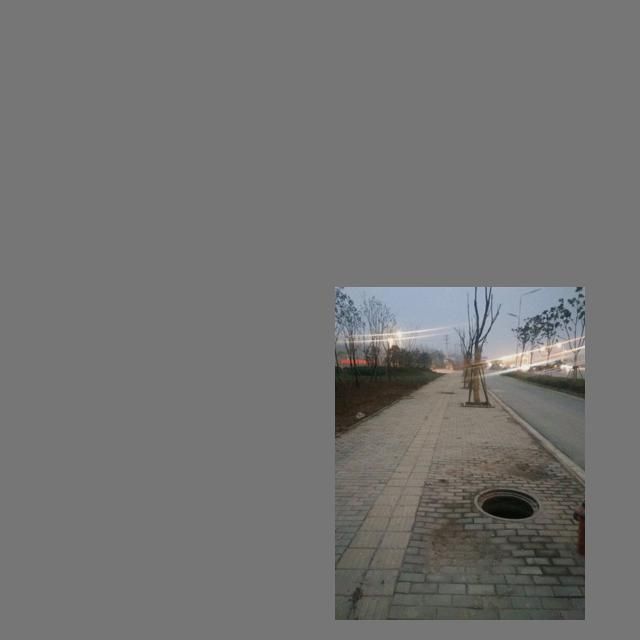lose: (465, 480, 548, 529)
